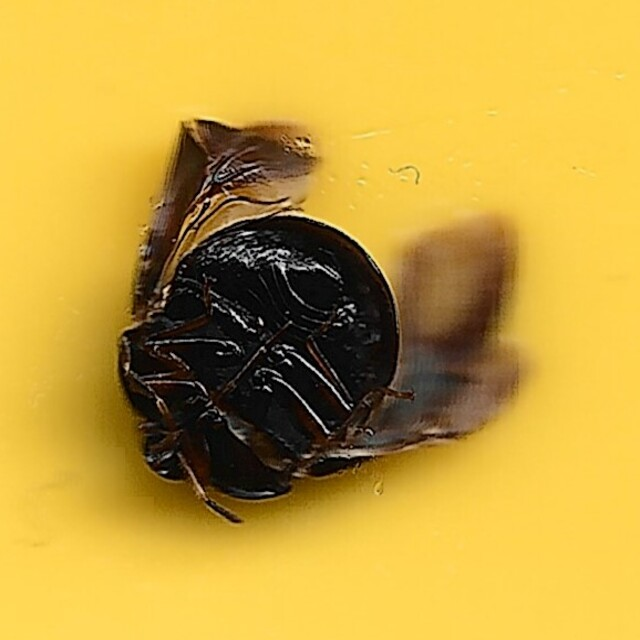Coleoptera: (111, 112, 529, 528)
